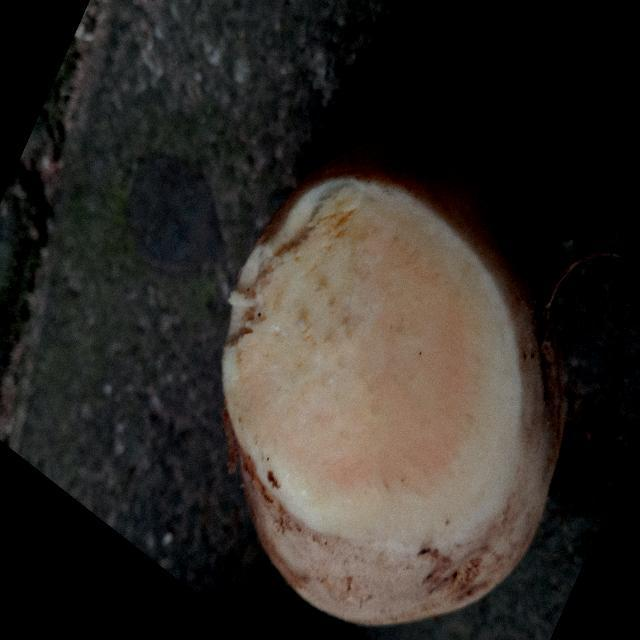Healthy Sweet Potato: (222, 182, 521, 545)
